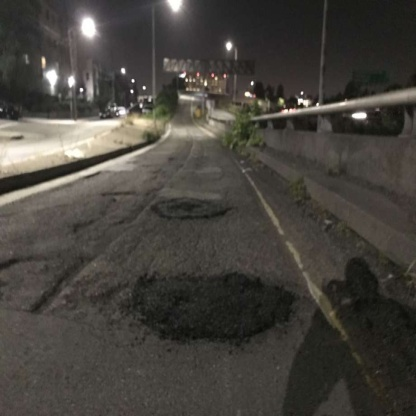pothole: (107, 258, 305, 347), (151, 184, 239, 228)
